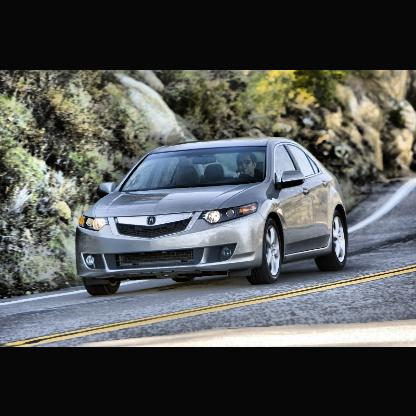Acura TSX Sedan 2012: (75, 134, 352, 300)
